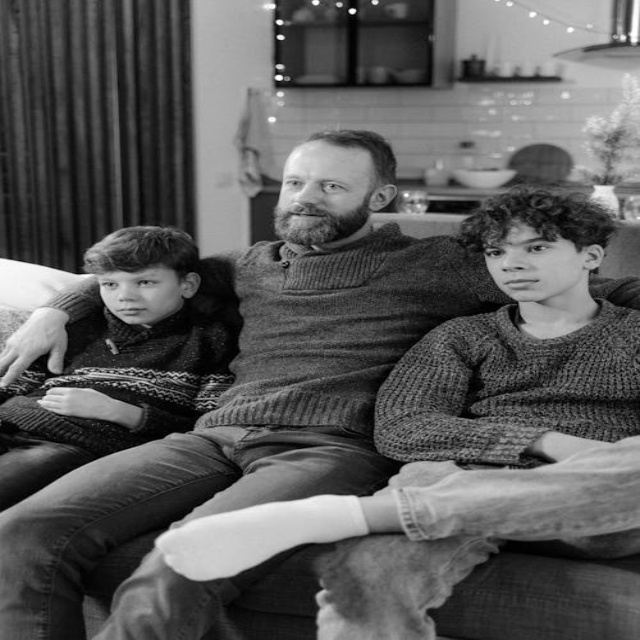Sin_gafas: (480, 235, 570, 265), (282, 168, 357, 195), (96, 272, 174, 292)
Sin_guantes: (3, 308, 77, 382), (37, 384, 120, 422)
Sin_mascara: (278, 205, 329, 230), (497, 276, 552, 296), (111, 305, 151, 320)
